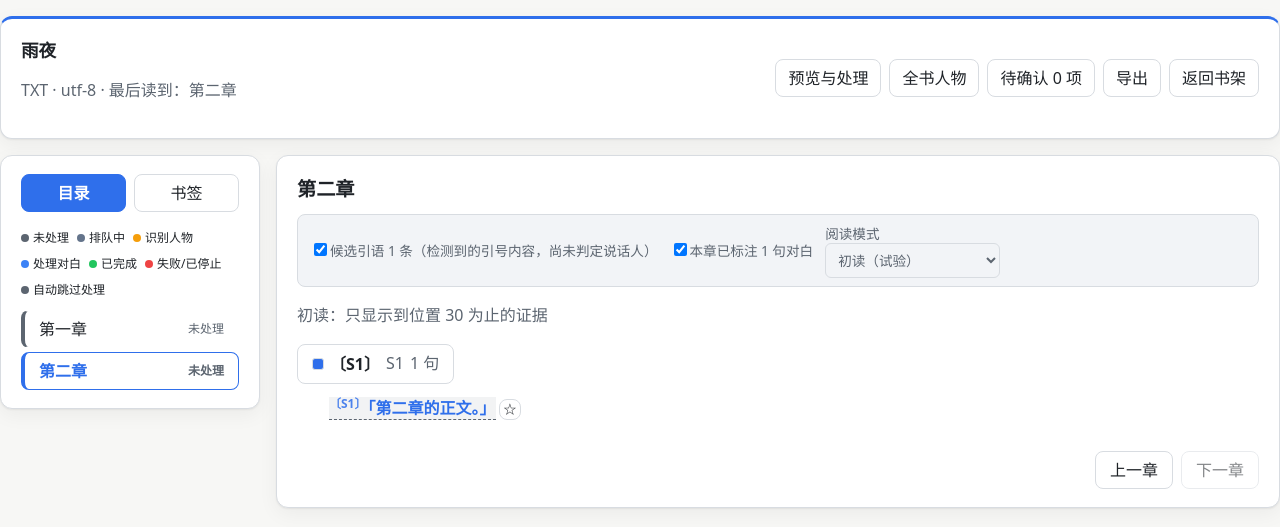
Test case: ReaderPage › 关闭试验时旧初读书籍也用重读，开启显示试验选项，切换不丢章节
This screenshot has width=1280, height=527.
Check: the text "〔S1〕「第二章的正文。」" is shown, box [329,397,496,419]
Select "初读（试验）" in the dropdown with test id "reader-reading-mode". click: [912, 260]
box: [825,243,1000,278]
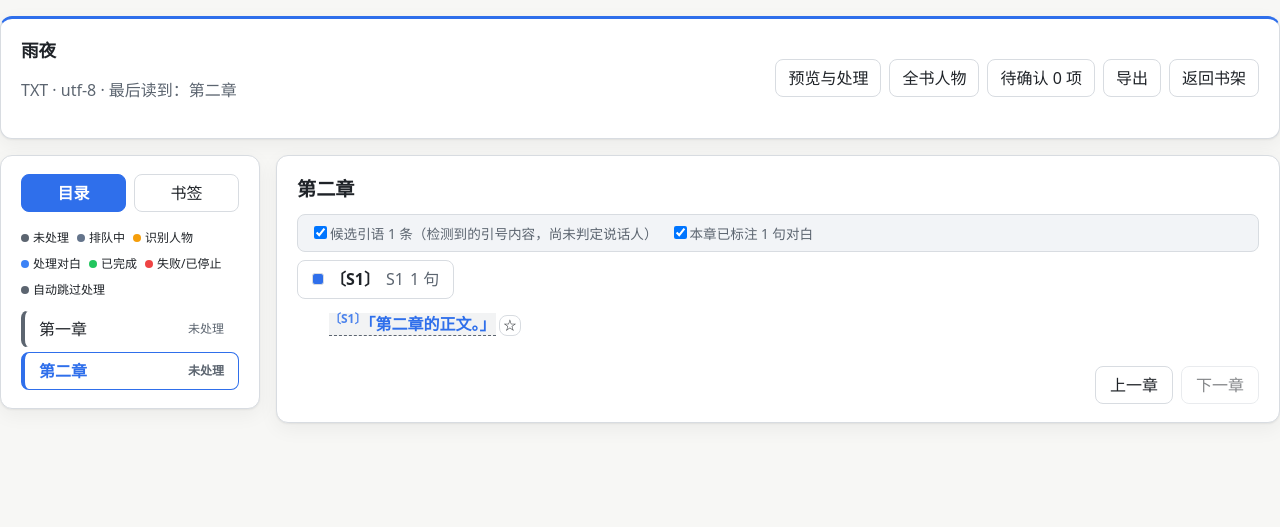
Check: the dropdown with test id "reader-reading-mode" is gone
